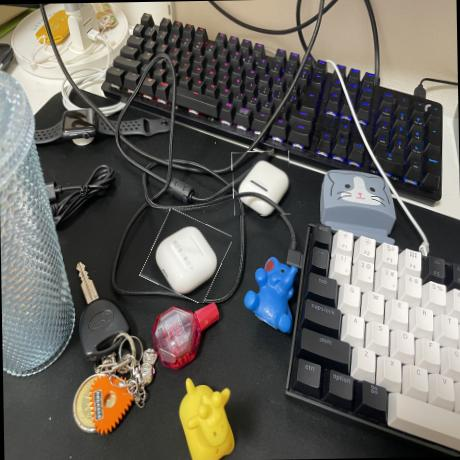airpod2: (231, 150, 290, 216)
airpod3: (144, 213, 228, 299)
